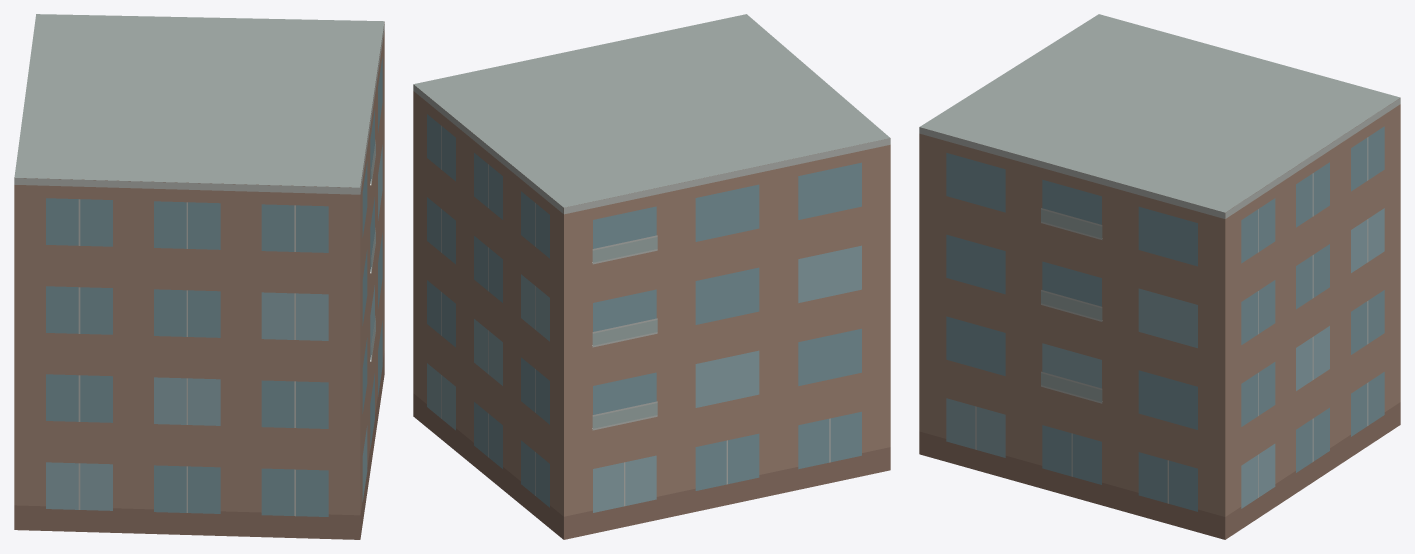
Rendered from survey-upis-33029347.glb.
3 views of the same model, side by side, from view 1: azimuth 30°, elevation 25°; view 2: azimuth 150°, elevation 25°; view 3: azimuth 270°, elevation 25° (orthographic). The views are drawn at different scales.
Parts seen in each view (by area): view 1: survey-upis-33029347.tmp; view 2: survey-upis-33029347.tmp; view 3: survey-upis-33029347.tmp.
Part boxes in pixels (bbox=[...]): survey-upis-33029347.tmp: bbox=[14, 14, 384, 539]; survey-upis-33029347.tmp: bbox=[413, 14, 890, 539]; survey-upis-33029347.tmp: bbox=[919, 14, 1400, 539].
Bounding box in the file's own units: 15.89 × 12.2 × 16.27.
